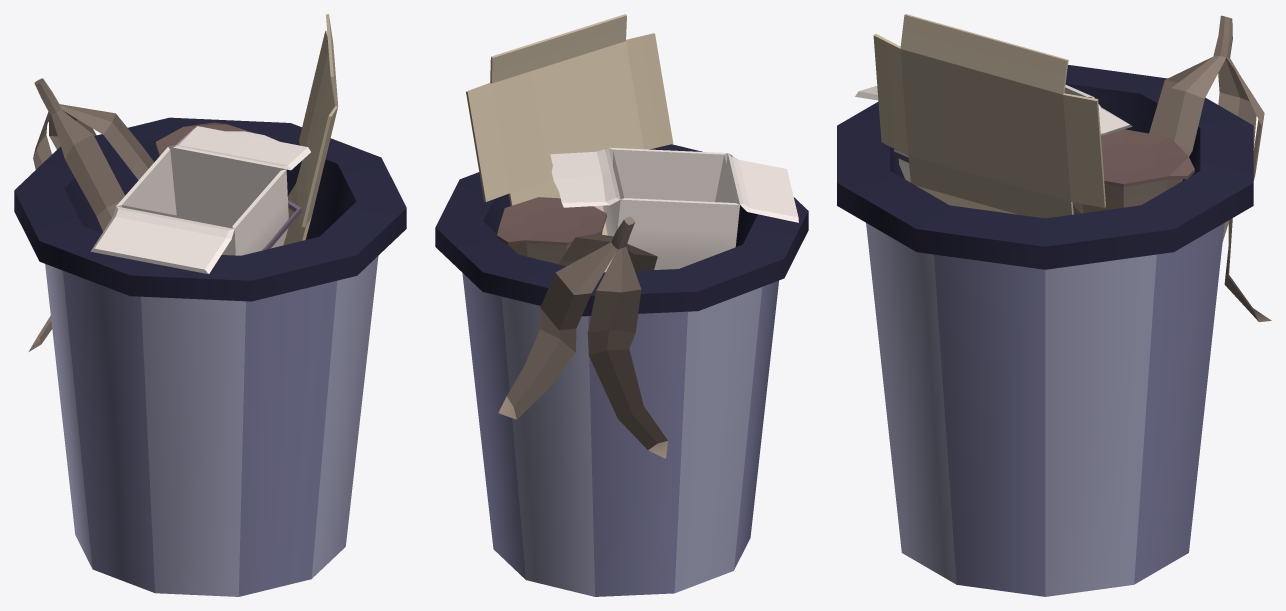
File: _rash_Can.fbx
3 views of the same model, side by side, from view 1: azimuth 30°, elevation 25°; view 2: azimuth 150°, elevation 25°; view 3: azimuth 270°, elevation 25° (orthographic). The views are drawn at different scales.
Visible parts, largest first — view 1: Can, Open_Trash_Bag, Takeout_Discard, Banana_Peel, Frozen_Food_Box_Discard, Noodles_Discard; view 2: Can, Frozen_Food_Box_Discard, Takeout_Discard, Open_Trash_Bag, Banana_Peel, Noodles_Discard; view 3: Can, Frozen_Food_Box_Discard, Open_Trash_Bag, Banana_Peel, Noodles_Discard, Takeout_Discard.
Part boxes in pixels (<box>): Can: <box>45,256,378,596</box>; Open_Trash_Bag: <box>14,117,406,301</box>; Takeout_Discard: <box>90,126,310,274</box>; Banana_Peel: <box>28,78,154,351</box>; Frozen_Food_Box_Discard: <box>283,14,338,245</box>; Noodles_Discard: <box>155,122,254,155</box>; Can: <box>462,273,778,596</box>; Frozen_Food_Box_Discard: <box>466,14,673,272</box>; Takeout_Discard: <box>550,147,798,269</box>; Open_Trash_Bag: <box>435,144,808,316</box>; Banana_Peel: <box>498,216,667,458</box>; Noodles_Discard: <box>497,197,606,264</box>; Can: <box>866,223,1224,596</box>; Frozen_Food_Box_Discard: <box>873,14,1105,218</box>; Open_Trash_Bag: <box>837,65,1253,269</box>; Banana_Peel: <box>1149,15,1271,322</box>; Noodles_Discard: <box>1072,129,1194,214</box>; Takeout_Discard: <box>855,85,1132,182</box>.
Size of the model in its own units: 0.0108 by 0.0149 by 0.0107.
